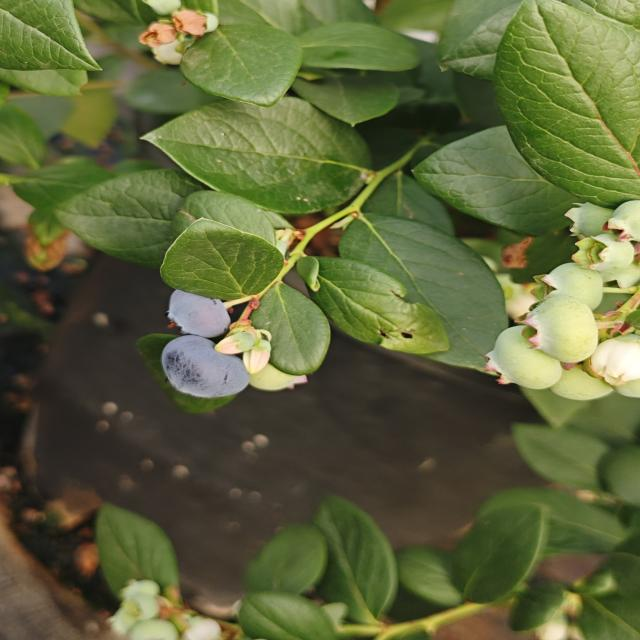ripe: (154, 333, 246, 404), (160, 280, 228, 334)
